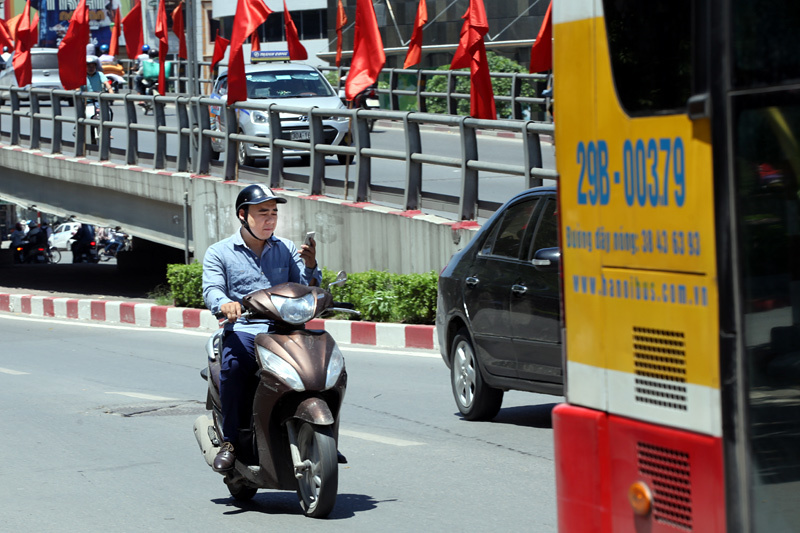dieu khien xe may: (223, 183, 345, 443)
su dung dien thoai: (235, 182, 317, 269)
